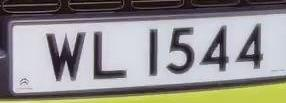1: (138, 22, 168, 83)
4: (233, 15, 269, 79), (197, 18, 234, 80)
5: (161, 20, 200, 80)
L: (87, 26, 135, 86)
W: (44, 25, 89, 86)
